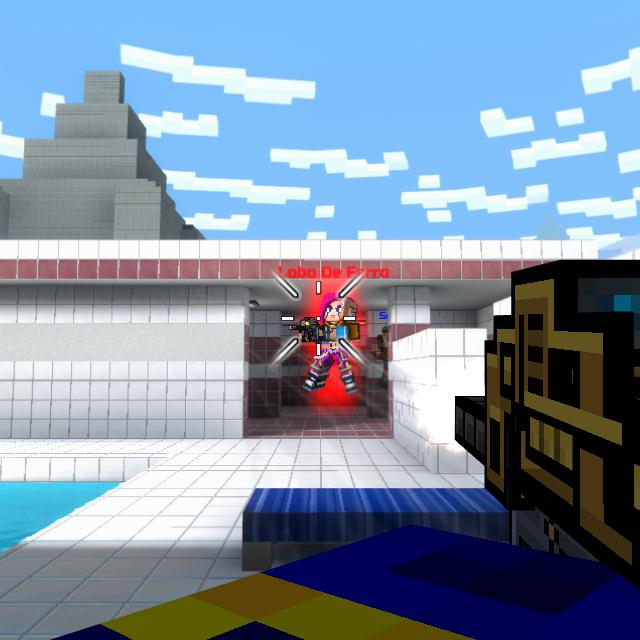Enemy: (304, 297, 364, 395)
